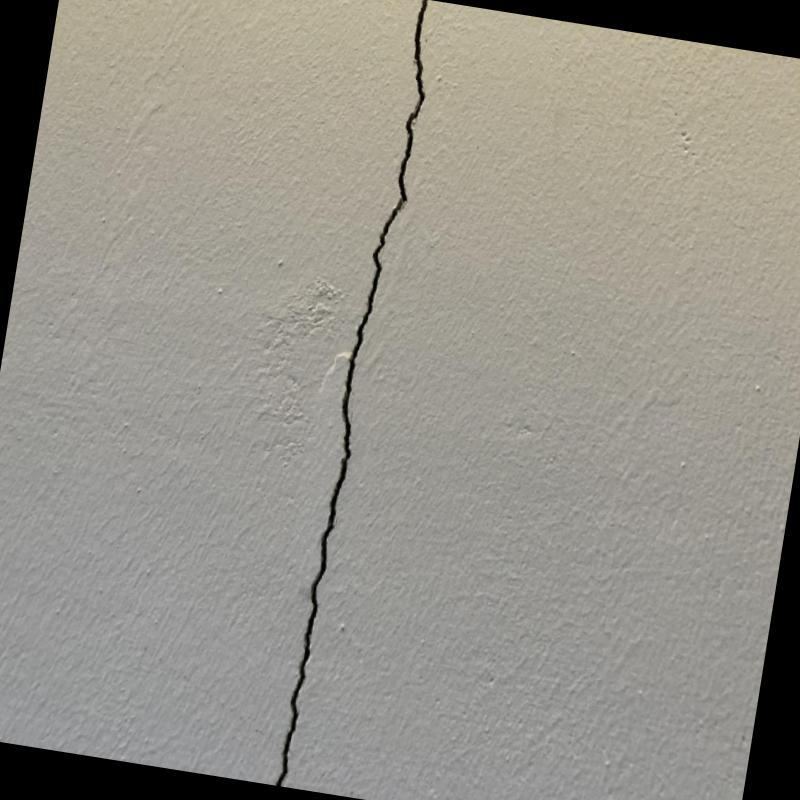pothole: (275, 0, 428, 786)
